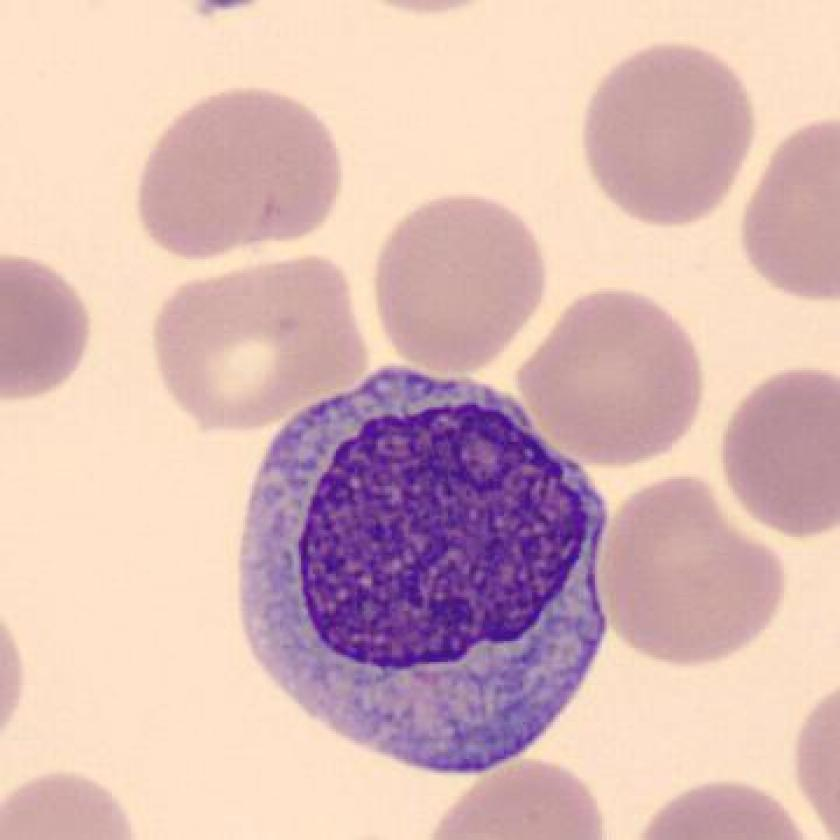monocyte: (220, 339, 636, 795)
